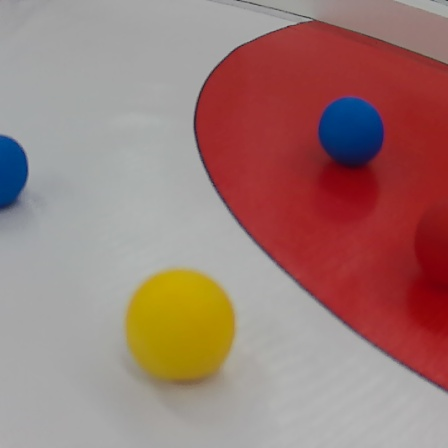blue: (318, 92, 385, 170), (1, 132, 29, 207)
red_base: (195, 15, 445, 398)
yellow: (123, 265, 238, 385)
